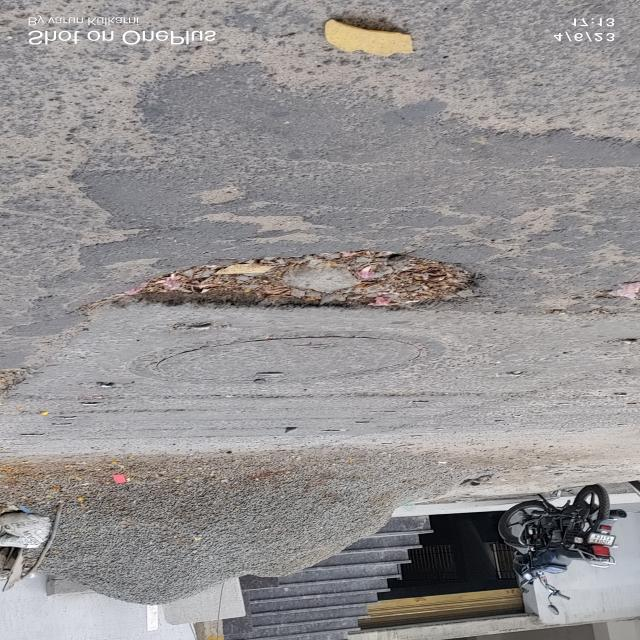potholes: (126, 234, 496, 322)
